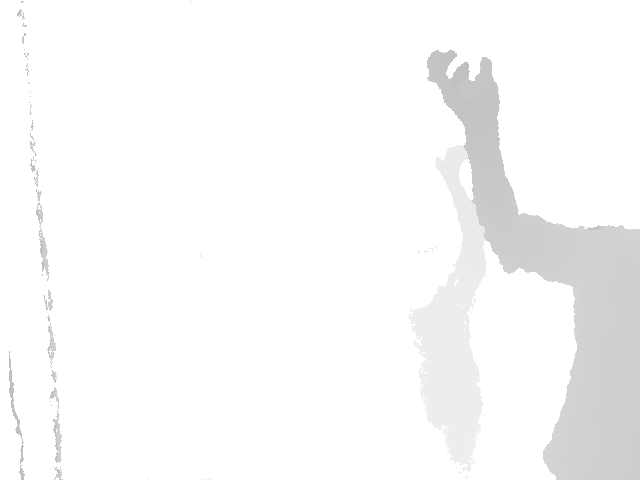hand: (427, 50, 500, 129)
person: (426, 48, 640, 480)
